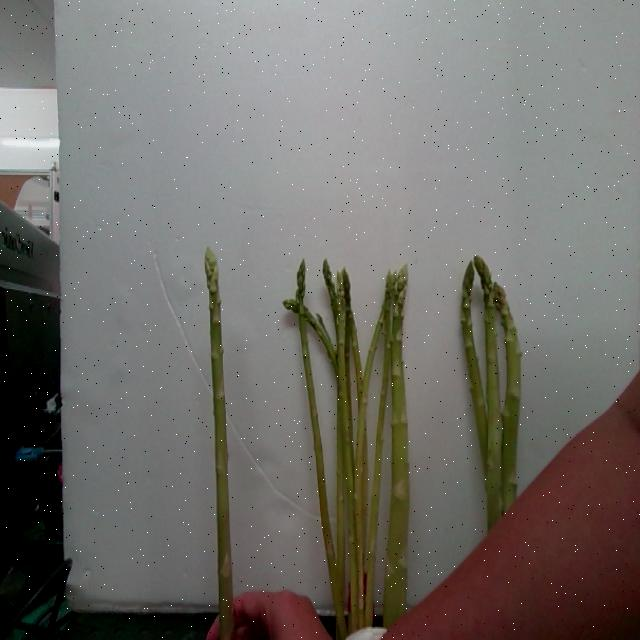aspargus: (206, 249, 235, 640)
